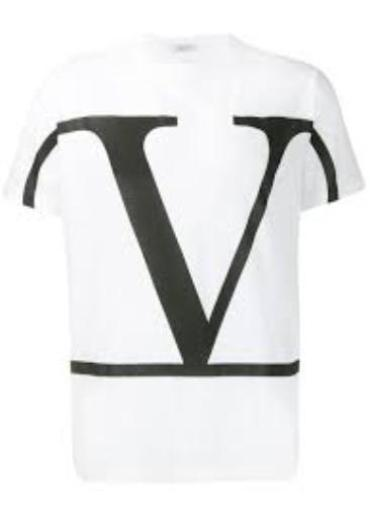VALENTINO: (18, 94, 345, 401)
